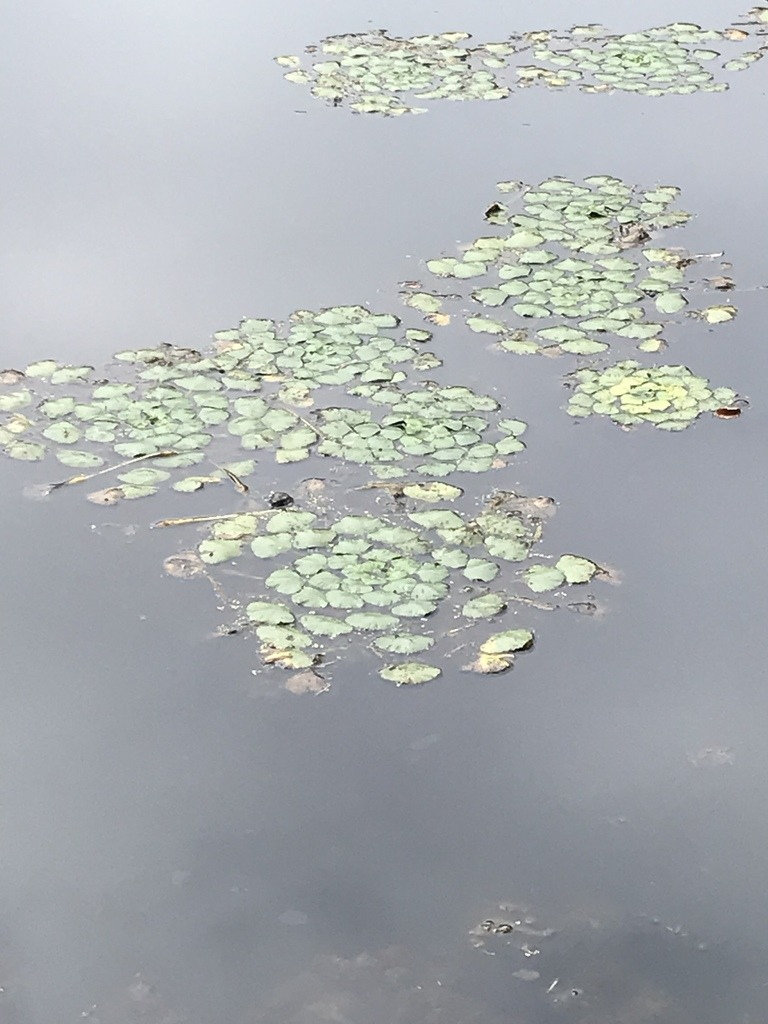water chestnut: (3, 170, 746, 695)
